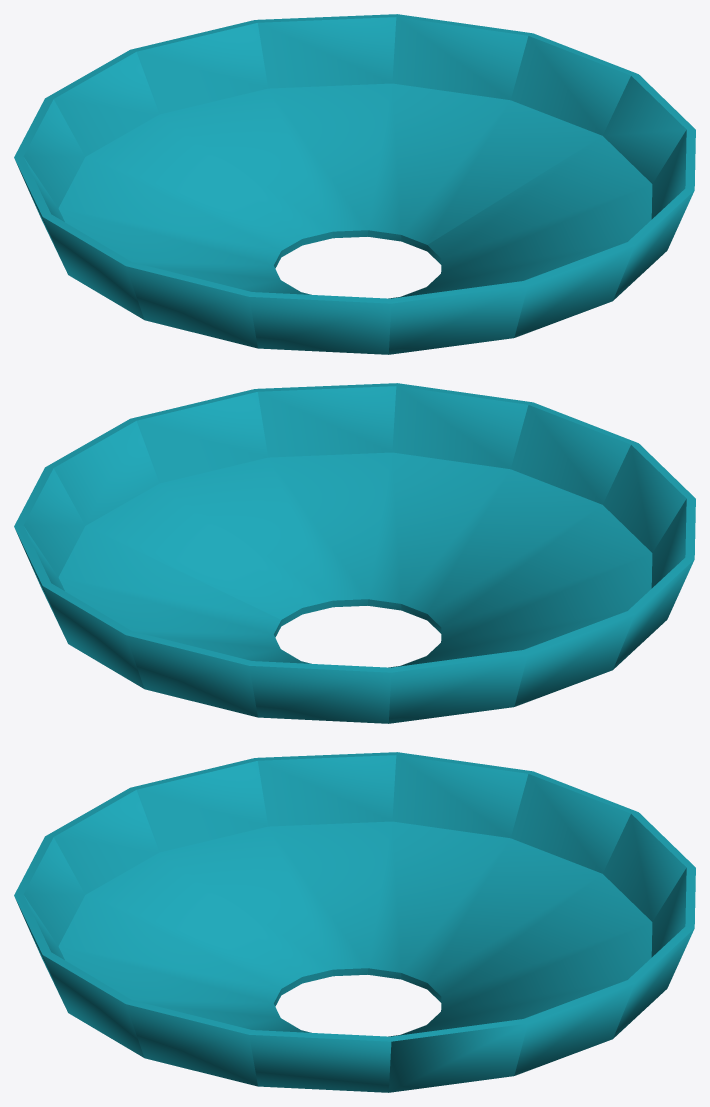
File: Tank.fbx
3 views of the same model, one above another, from view 1: azimuth 30°, elevation 25°; view 2: azimuth 150°, elevation 25°; view 3: azimuth 270°, elevation 25° (orthographic).
Visible parts, largest first — view 1: Tank; view 2: Tank; view 3: Tank.
Part boxes in pixels (bbox=[...]): Tank: bbox=[14, 14, 695, 354]; Tank: bbox=[14, 383, 695, 723]; Tank: bbox=[14, 752, 695, 1092].
Bounding box in the file's own units: 15.6 × 2.88 × 15.52.
